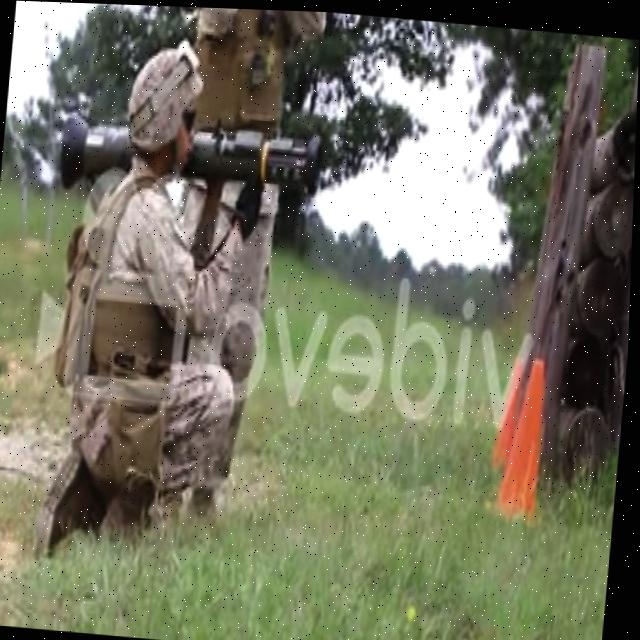rocket: (55, 107, 326, 211)
